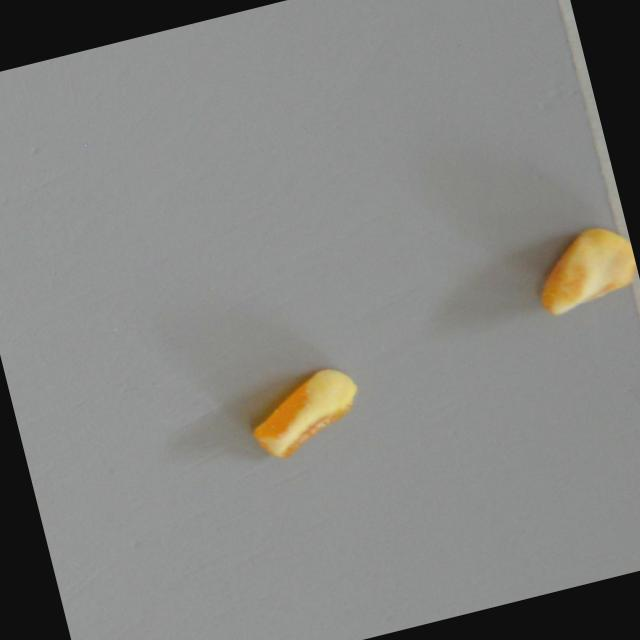pelicula: (522, 214, 640, 358), (238, 361, 369, 466)
